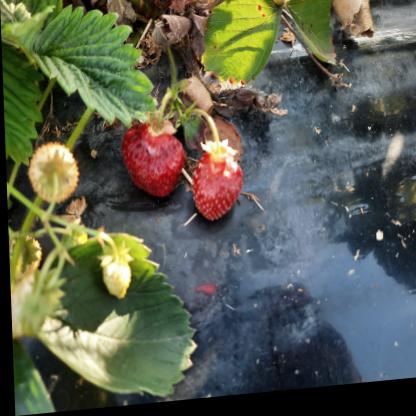ripe: (121, 125, 189, 202), (191, 153, 238, 224)
